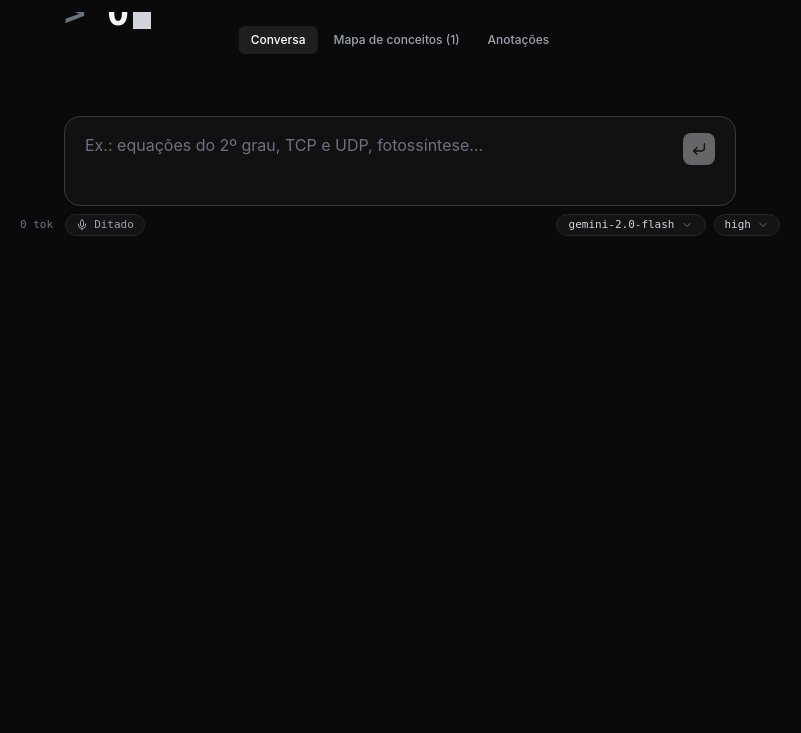
Scenario: SessionView Integration › renders initial goal orientation input and allows starting session
Expected: the text "antes de explicar qualquer coisa, eu vou descobrir o que você já sabe" is shown, [64,46,722,84]
Step 1. Type "Camada 3 e TTL" into the text box with placeholder "Ex.: equações do 2º grau, TCP e UDP, fotossíntese…" → (380, 161), box [85,133,675,189]
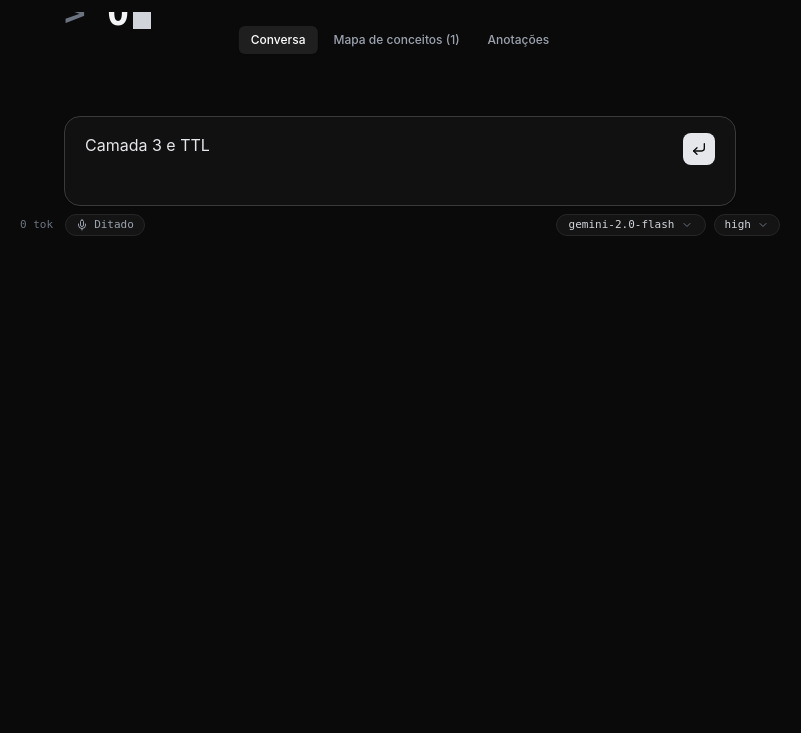
Step 2. Click the button named "começar" → (699, 149), box [683,133,715,165]
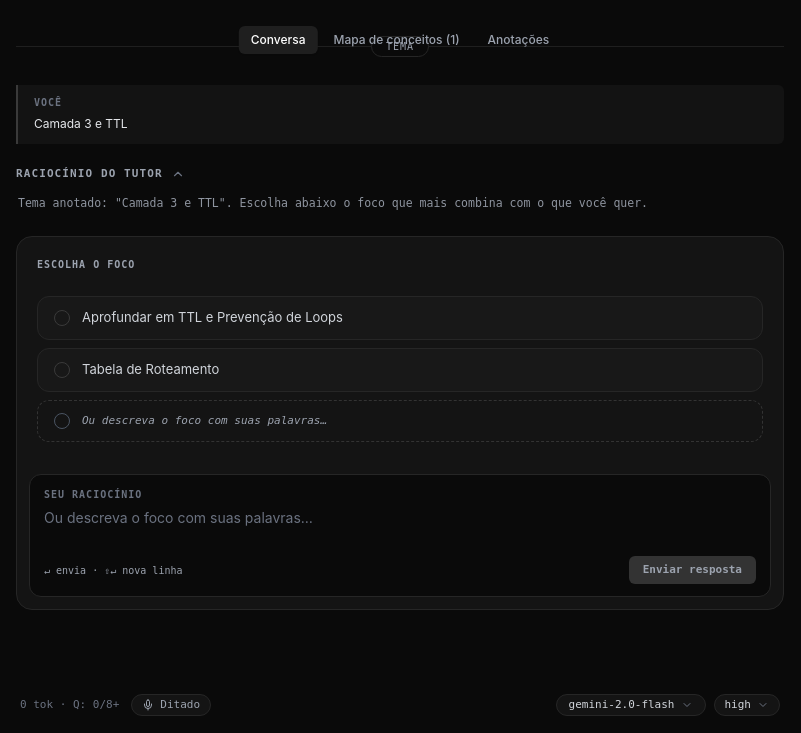
Result: the text "Aprofundar em TTL e Prevenção de Loops" is shown at [82,309,343,327]
